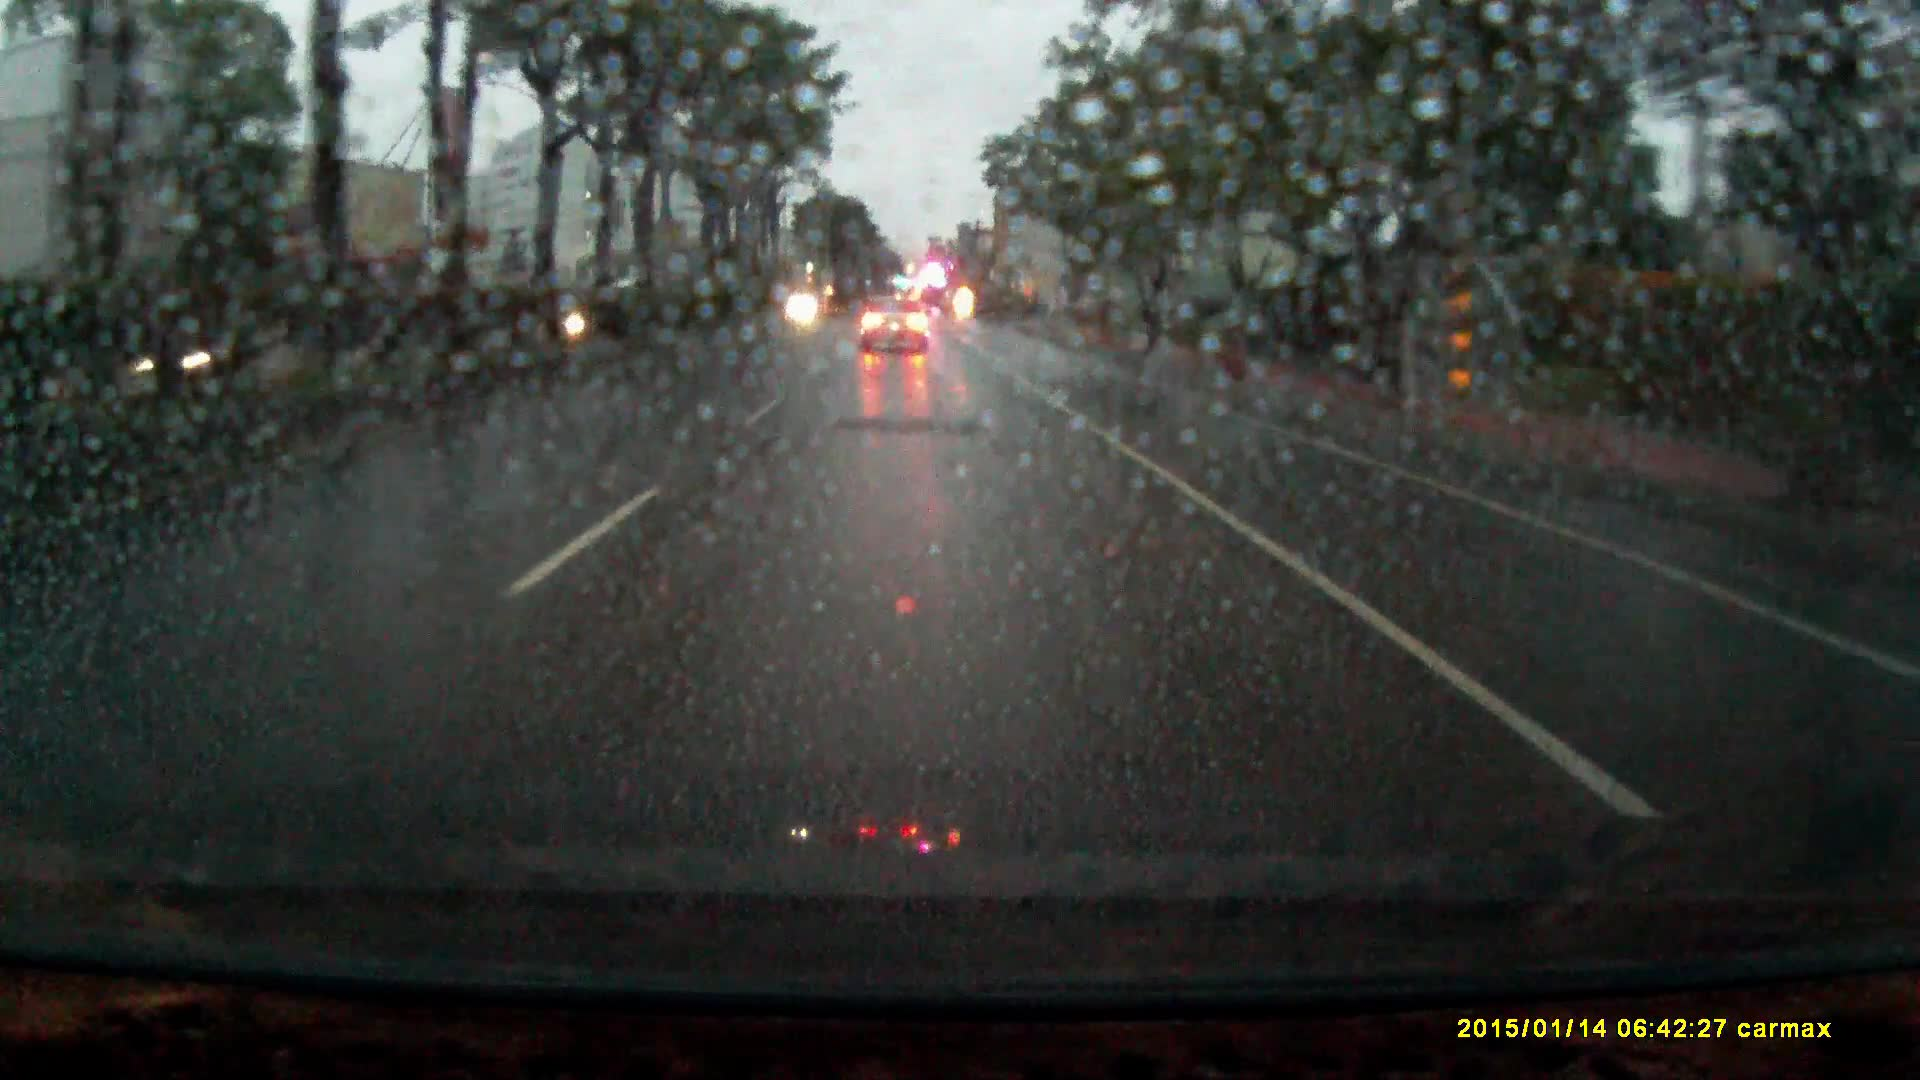vehicle: (861, 284, 930, 343)
